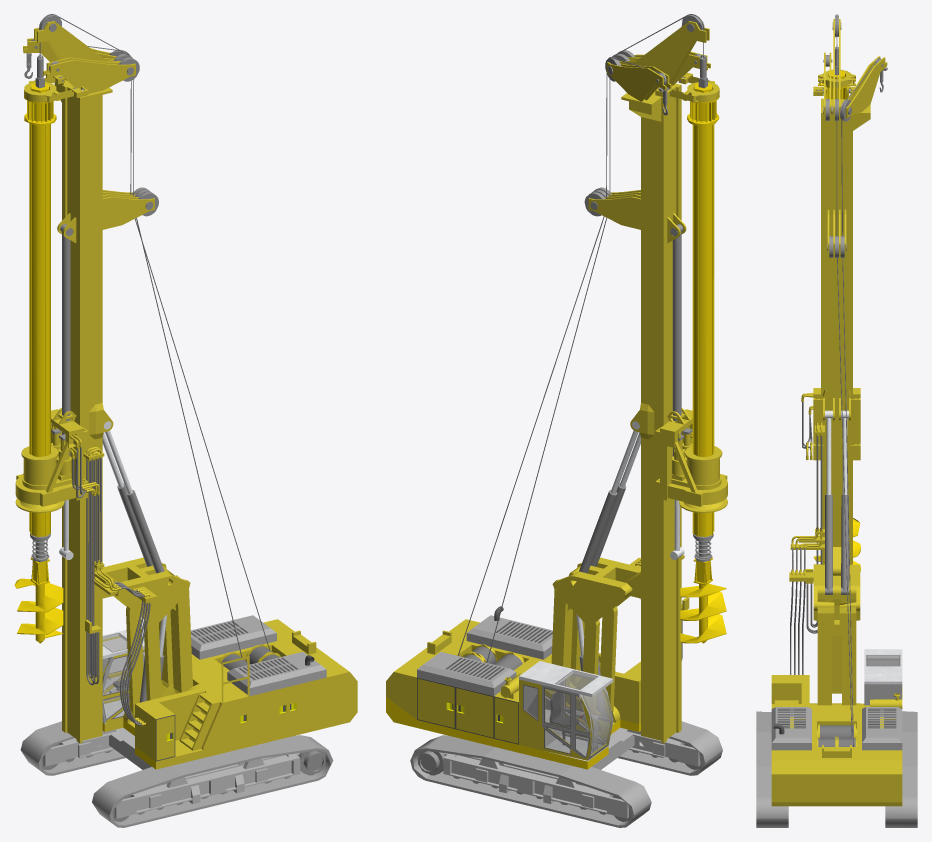
The model's file is piling-rig.glb.
3 renders of one model, left to right at view 1: azimuth 30°, elevation 25°; view 2: azimuth 150°, elevation 25°; view 3: azimuth 270°, elevation 25°, orthographic. The views are drawn at different scales.
Visible parts, largest first — view 1: Geom3D_15, Geom3D_20, Geom3D_26, Geom3D_4, Geom3D_19, Geom3D_35, Geom3D__9, Geom3D_14, Geom3D_23, Geom3D_27, Geom3D_28, Geom3D_18 (+4 smaller); view 2: Geom3D_15, Geom3D_20, Geom3D_26, Geom3D_4, Geom3D_19, Geom3D__9, Geom3D_28, Geom3D_27, Geom3D_14, Geom3D_24, Geom3D_23, Geom3D_18 (+5 smaller); view 3: Geom3D_20, Geom3D_15, Geom3D_26, Geom3D_35, Geom3D_27, Geom3D_23, Geom3D__9, Geom3D_7, Geom3D_18, Geom3D_14, Geom3D_29, Geom3D_4 (+2 smaller).
Part boxes in pixels (x1,y1,x2,y2): Geom3D_15: (23, 21, 154, 743); Geom3D_20: (102, 557, 357, 769); Geom3D_26: (20, 615, 333, 827); Geom3D_4: (14, 83, 63, 643); Geom3D_19: (43, 686, 300, 818); Geom3D_35: (31, 39, 269, 725); Geom3D__9: (15, 407, 99, 509); Geom3D_14: (31, 15, 158, 456); Geom3D_23: (41, 483, 325, 821); Geom3D_27: (102, 421, 167, 723); Geom3D_28: (102, 633, 144, 719); Geom3D_18: (113, 621, 314, 761); Geom3D_15: (588, 21, 710, 743); Geom3D_20: (386, 557, 640, 760); Geom3D_26: (410, 615, 722, 827); Geom3D_4: (680, 83, 726, 643); Geom3D_19: (443, 711, 700, 818); Geom3D__9: (655, 408, 727, 509); Geom3D_28: (523, 671, 611, 756); Geom3D_27: (519, 421, 640, 761); Geom3D_14: (584, 15, 704, 456); Geom3D_24: (386, 697, 640, 769); Geom3D_23: (418, 483, 700, 821); Geom3D_18: (417, 606, 580, 745); Geom3D_20: (771, 564, 902, 806); Geom3D_15: (790, 19, 887, 693); Geom3D_26: (756, 658, 917, 827); Geom3D_35: (790, 58, 880, 746); Geom3D_27: (825, 410, 902, 684); Geom3D_23: (825, 494, 848, 594); Geom3D__9: (801, 388, 860, 460); Geom3D_7: (836, 14, 852, 737); Geom3D_18: (773, 708, 896, 734); Geom3D_14: (823, 15, 883, 257); Geom3D_29: (818, 655, 900, 746); Geom3D_4: (813, 71, 860, 571).
Bounding box in the file's own units: 7.9 × 19.54 × 4.
Materials: 12 (1 with a texture image).
